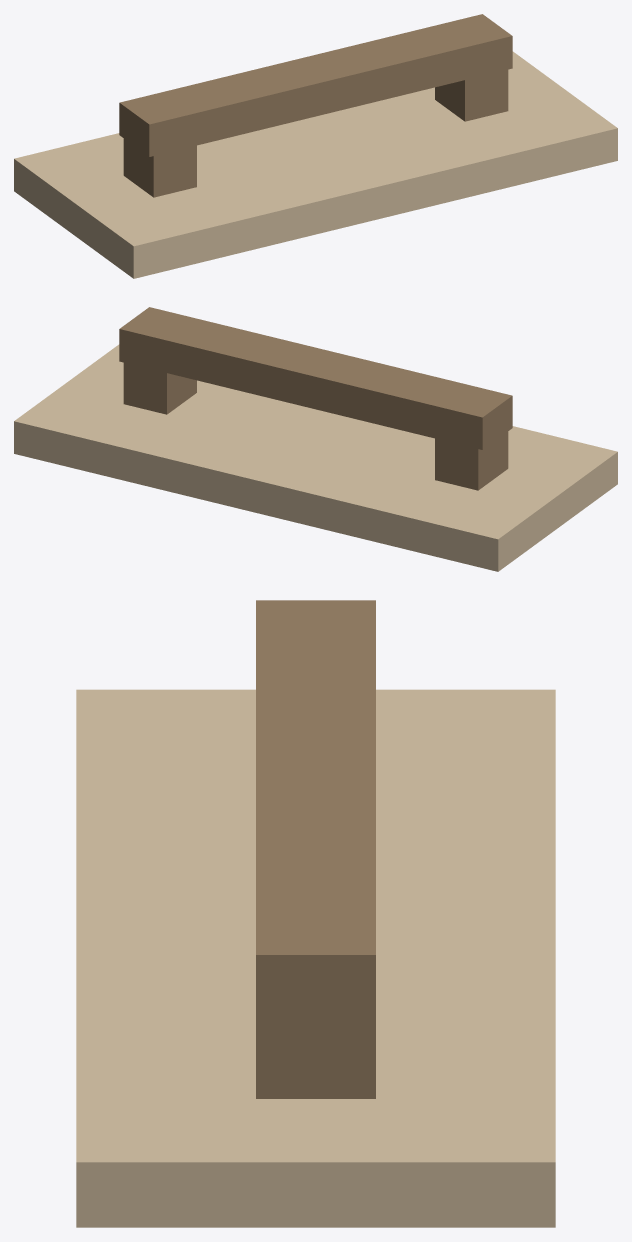
Rendered from prop-float-blank.fbx.
The picture shows the model from 3 angles, top to bottom: view 1: azimuth 30°, elevation 25°; view 2: azimuth 150°, elevation 25°; view 3: azimuth 270°, elevation 25°; orthographic projection. The views are drawn at different scales.
Parts seen in each view (by area): view 1: prop-float-blank; view 2: prop-float-blank; view 3: prop-float-blank.
Part boxes in pixels (left/top/right/bottom): prop-float-blank: left=14, top=14, right=617, bottom=278; prop-float-blank: left=14, top=307, right=617, bottom=571; prop-float-blank: left=76, top=600, right=555, bottom=1227.
Size of the model in its own units: 28 by 5.9 by 12.
